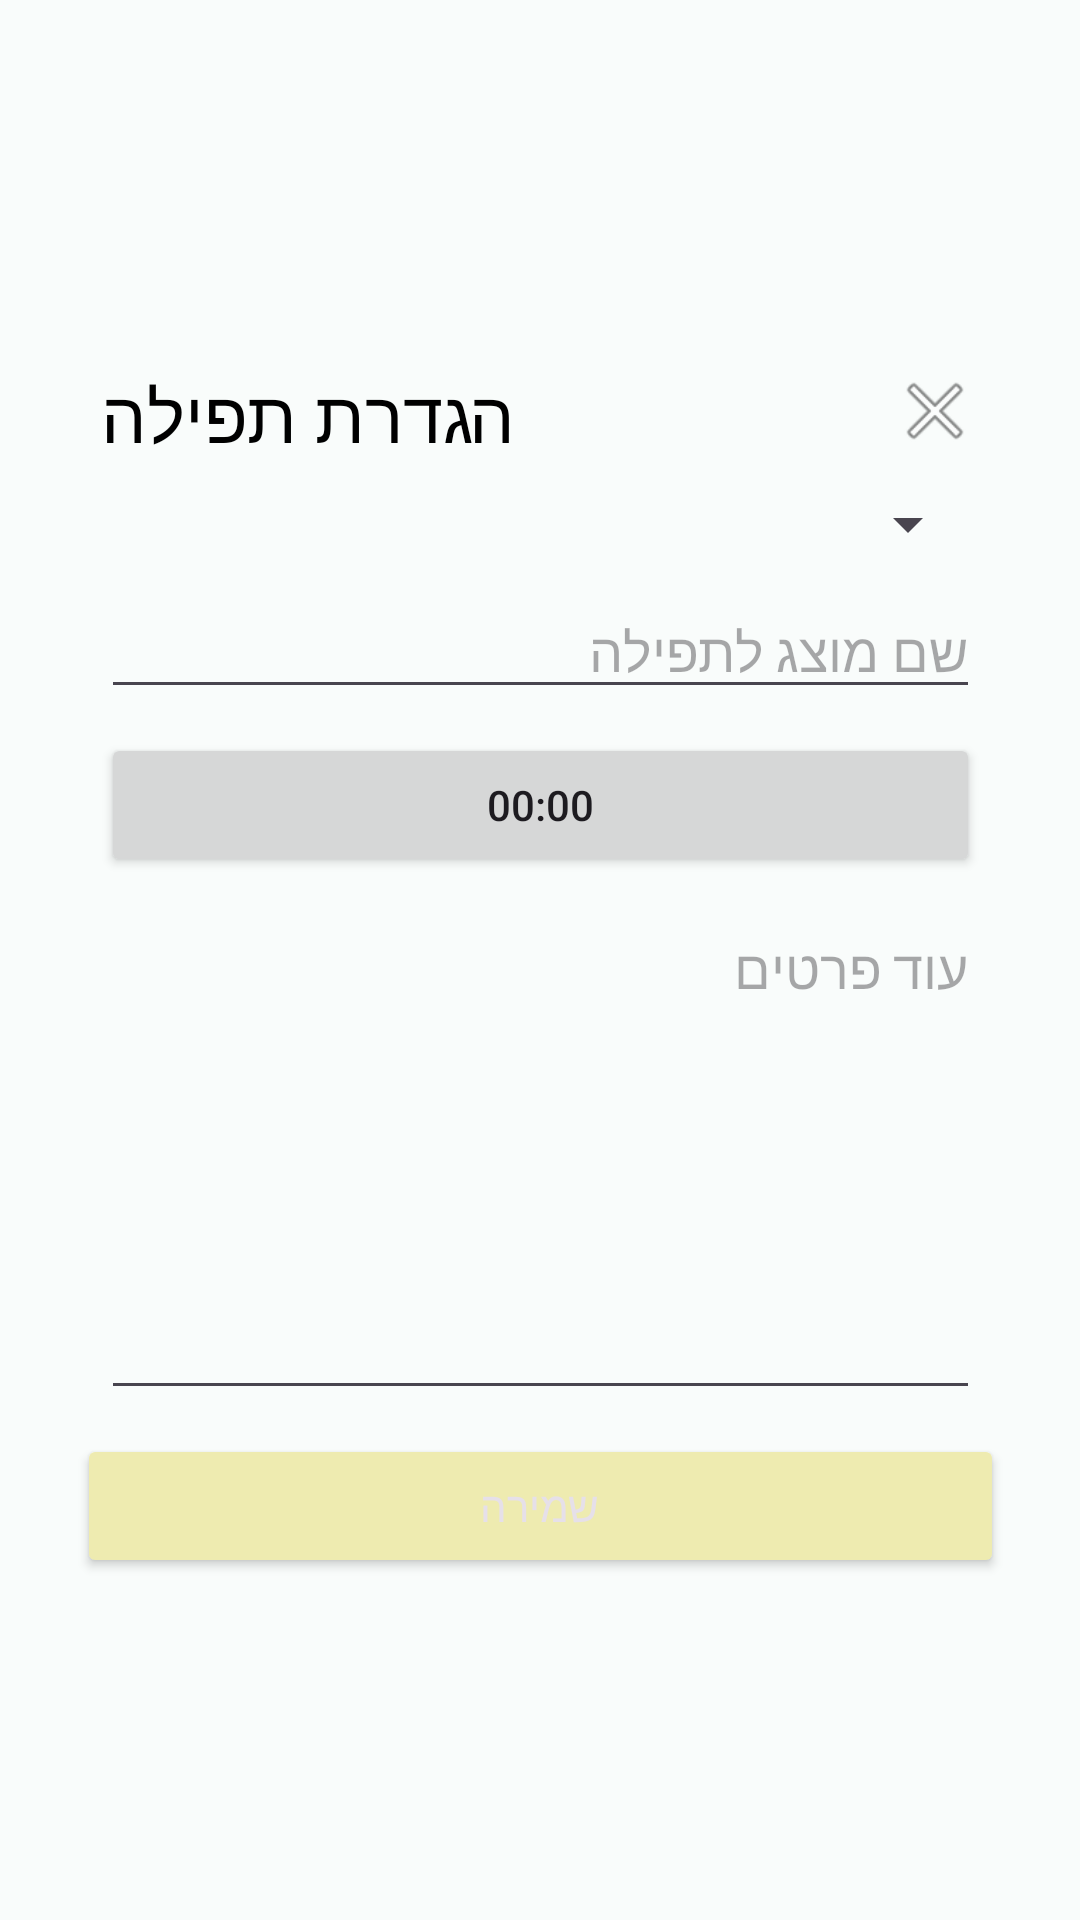

Named icons in this screenshot (1080 x 1920) and their centers, (x,y):
close clear cancel: (935,411)
